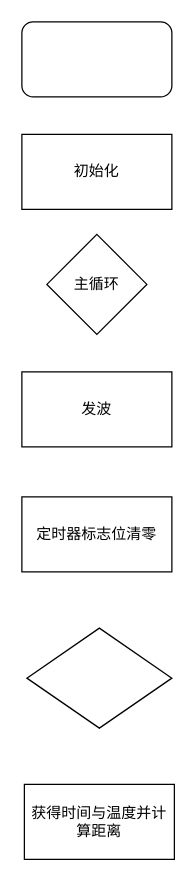
The diagram is 196 pixels wide and 881 high, and some of its shapes have lost their labels. Here are the shapes that lost their labels. From the top down, the box of each, then its label:
(21, 21, 172, 97): 开始
(26, 627, 172, 728): 等待上升沿触发
